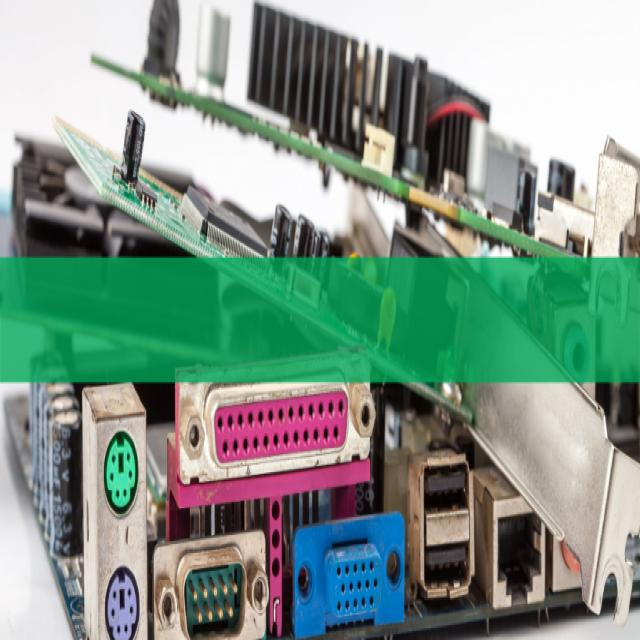hazard: (22, 33, 640, 637)
